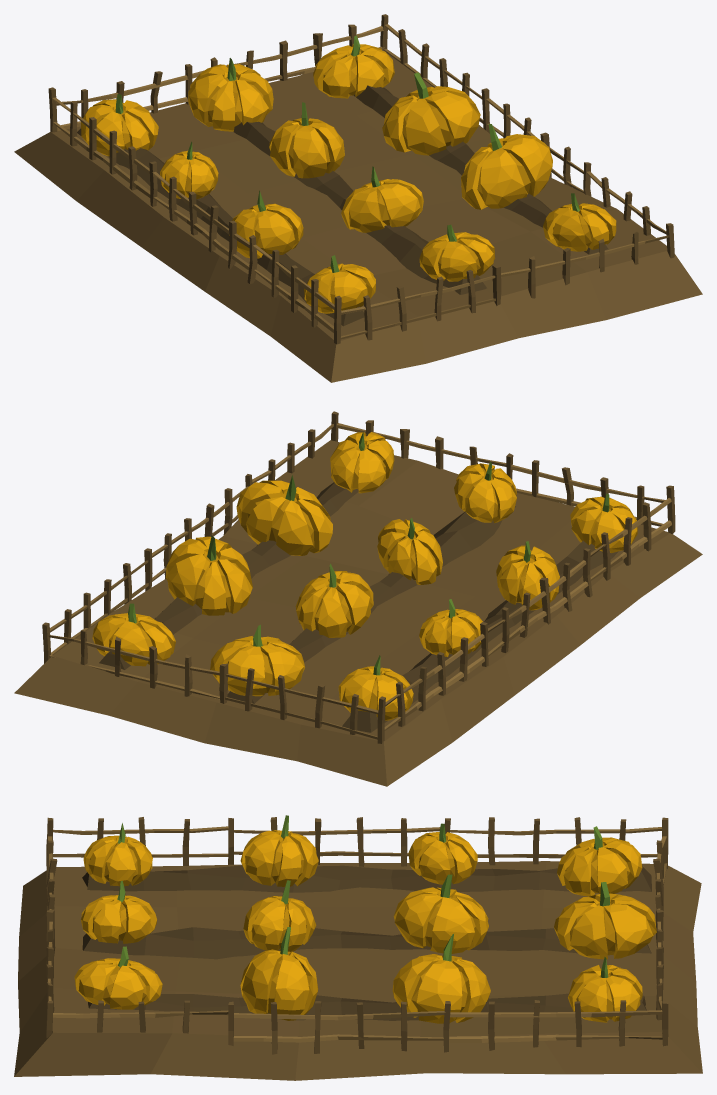
The model's file is pumpkinfield.fbx.
3 renders of one model, top to bottom at view 1: azimuth 30°, elevation 25°; view 2: azimuth 150°, elevation 25°; view 3: azimuth 270°, elevation 25°, orthographic. The views are drawn at different scales.
Visible parts, largest first — view 1: pumpkinField_LOD0; view 2: pumpkinField_LOD0; view 3: pumpkinField_LOD0.
Part boxes in pixels (box(x1,y1,x2,y2)): pumpkinField_LOD0: box(14, 14, 702, 382); pumpkinField_LOD0: box(14, 411, 702, 786); pumpkinField_LOD0: box(14, 815, 702, 1080).
Size of what is drawn, in the model's own units: 19.55 by 5.17 by 29.17.
